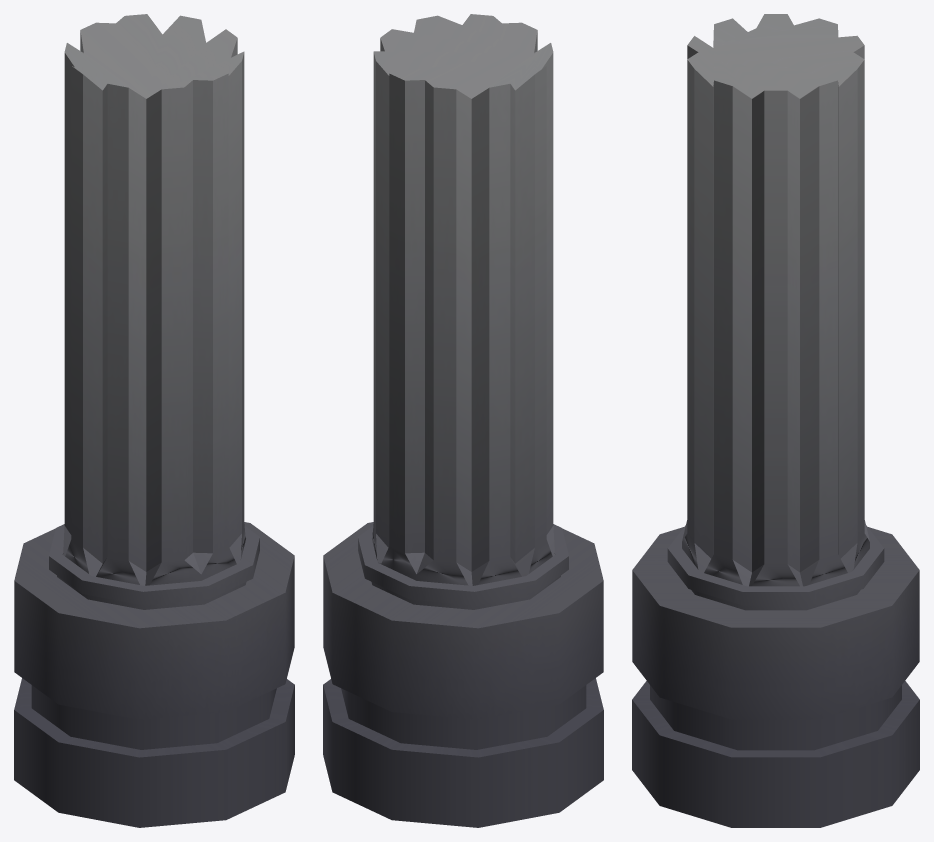
File: Pantheon_ColumnaBig_004.fbx
3 renders of one model, left to right at view 1: azimuth 30°, elevation 25°; view 2: azimuth 150°, elevation 25°; view 3: azimuth 270°, elevation 25°, orthographic.
Visible parts, largest first — view 1: Pantheon_ColumnaBig_004; view 2: Pantheon_ColumnaBig_004; view 3: Pantheon_ColumnaBig_004.
Part boxes in pixels (left/top/right/bottom): Pantheon_ColumnaBig_004: left=14, top=14, right=294, bottom=827; Pantheon_ColumnaBig_004: left=323, top=14, right=603, bottom=827; Pantheon_ColumnaBig_004: left=632, top=14, right=919, bottom=827.
Size of the model in its own units: 12.1 by 35.04 by 12.72.
